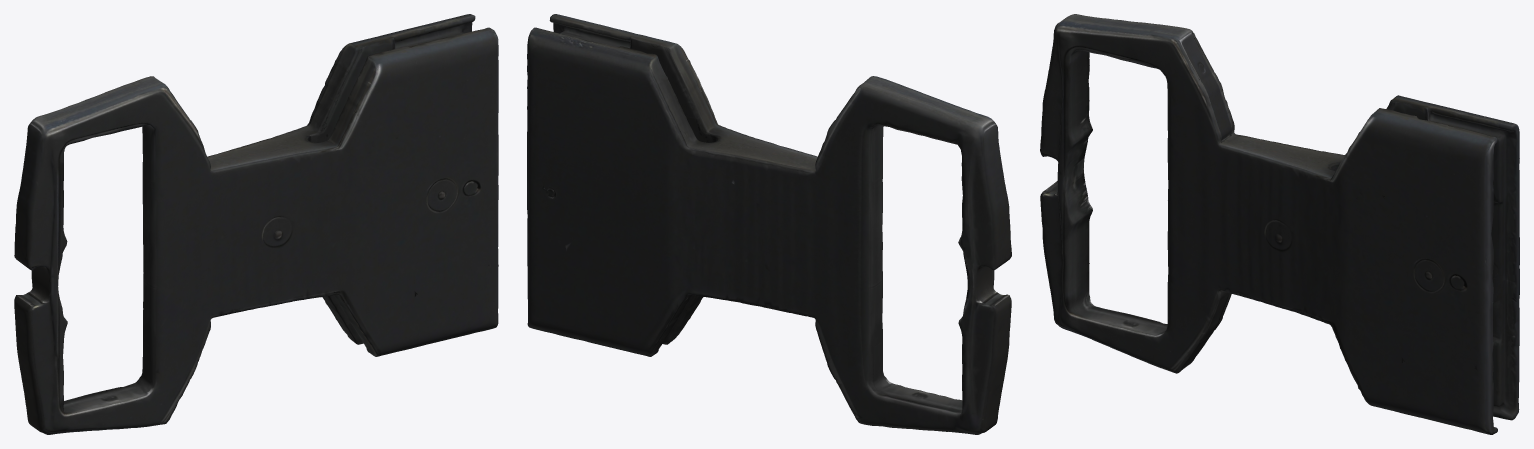
The model's file is Buckel2.fbx.
3 renders of one model, left to right at view 1: azimuth 30°, elevation 25°; view 2: azimuth 150°, elevation 25°; view 3: azimuth 330°, elevation 25°, orthographic.
Visible parts, largest first — view 1: Mesh_0; view 2: Mesh_0; view 3: Mesh_0.
Boxes of the visible parts, left/top/right/bottom form: Mesh_0: left=14, top=14, right=498, bottom=434; Mesh_0: left=527, top=14, right=1011, bottom=434; Mesh_0: left=1040, top=14, right=1519, bottom=434.
Size of the model in its own units: 200 by 140 by 26.57.
1 material, 1 textured.
